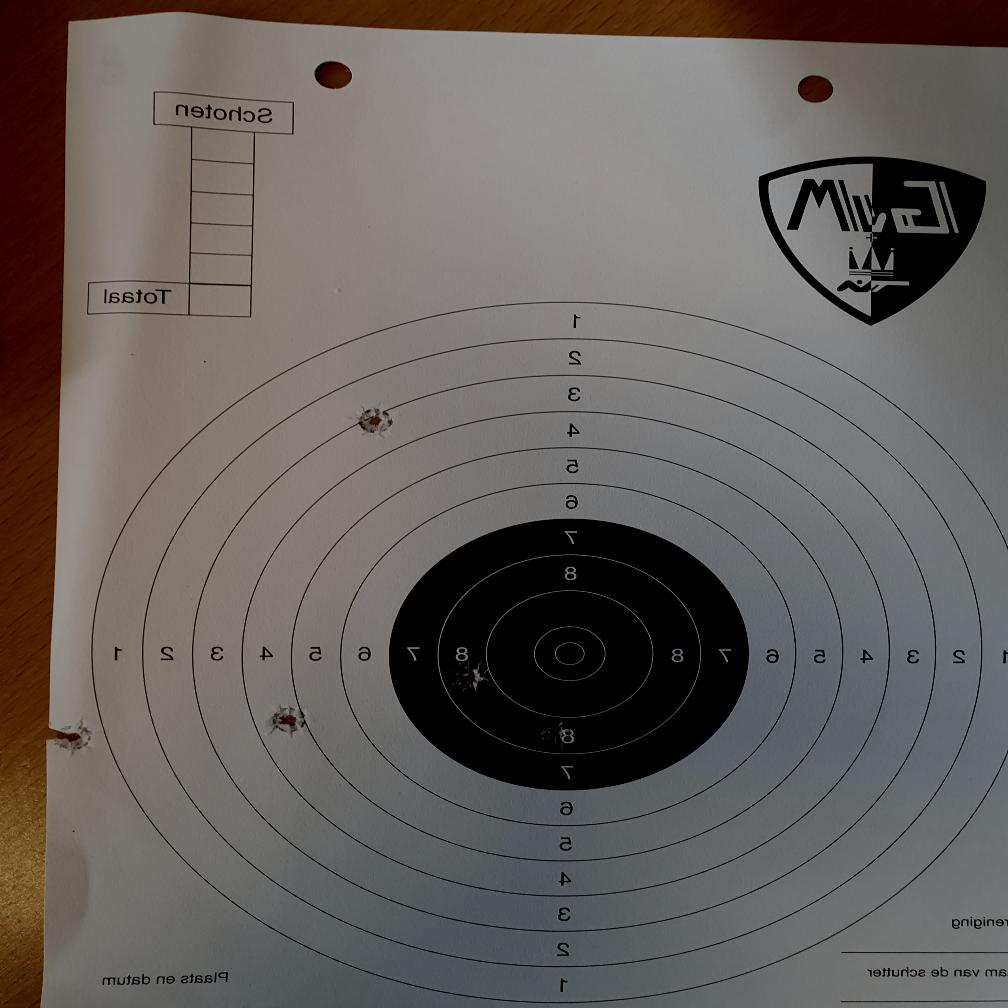0: (48, 719, 98, 761)
3: (353, 403, 396, 439)
5: (266, 703, 309, 739)
8: (443, 658, 492, 692), (532, 716, 578, 752)
Target: (89, 303, 1008, 1008)
black_contour: (387, 518, 752, 791)
